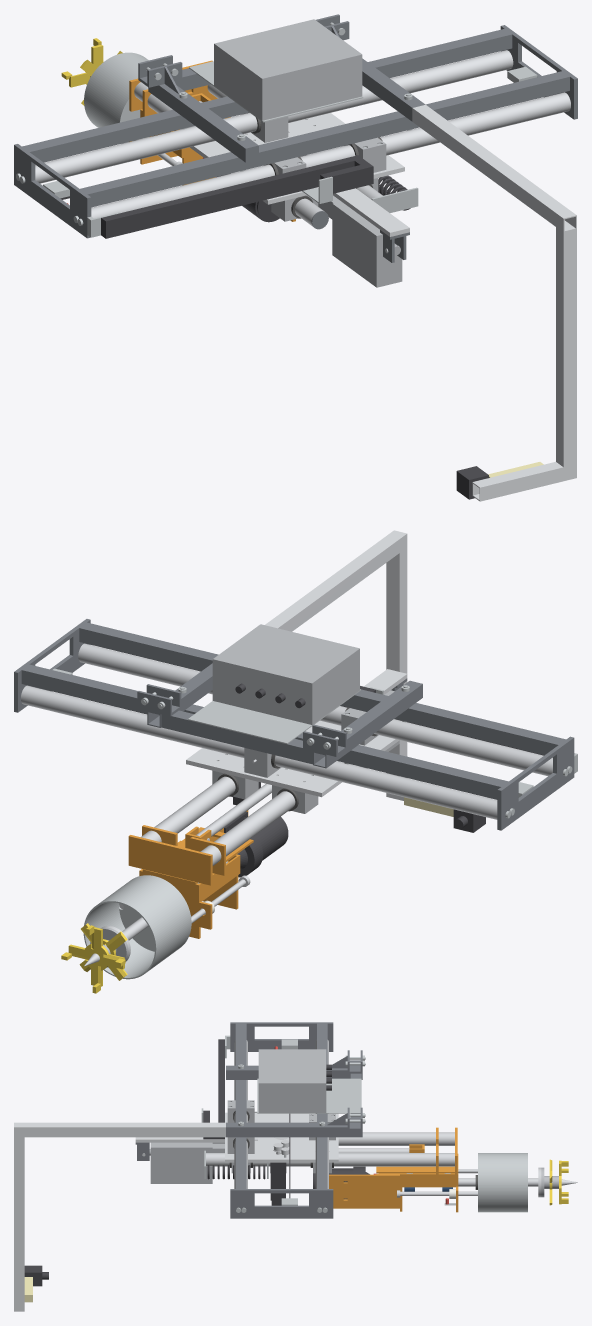
Rendered from work.glb.
3 views of the same model, one above another, from view 1: azimuth 30°, elevation 25°; view 2: azimuth 150°, elevation 25°; view 3: azimuth 270°, elevation 25° (orthographic). The views are drawn at different scales.
Parts seen in each view (by area): view 1: frame, carriage; view 2: frame, carriage; view 3: frame, carriage.
Boxes of the visible parts, x1=… form: frame: x1=14, y1=14, x2=577, y2=501; carriage: x1=61, y1=38, x2=418, y2=287; frame: x1=14, y1=530, x2=577, y2=832; carriage: x1=61, y1=669, x2=407, y2=993; frame: x1=14, y1=1022, x2=365, y2=1311; carriage: x1=135, y1=1100, x2=577, y2=1212.
Size of the model in its own units: 1.48 by 0.883 by 2.08.
